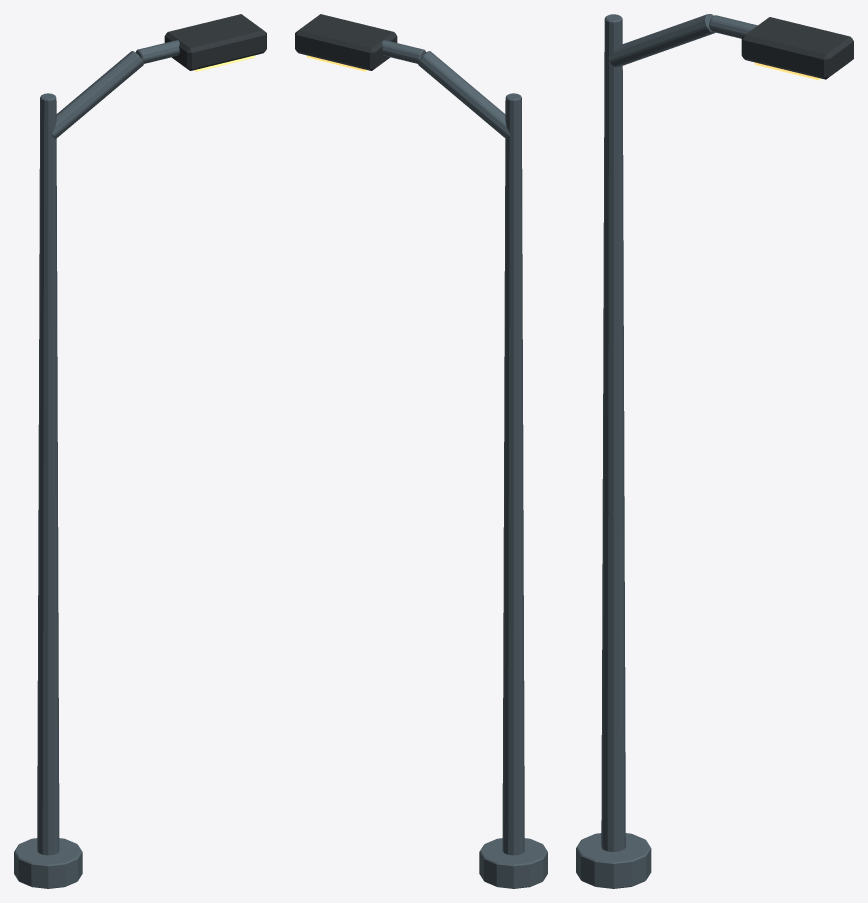
Rendered from environment_street_lamp_single_arm_model.glb.
3 renders of one model, left to right at view 1: azimuth 30°, elevation 25°; view 2: azimuth 150°, elevation 25°; view 3: azimuth 330°, elevation 25°, orthographic. The views are drawn at different scales.
Visible parts, largest first — view 1: BH_StreetLamp_01_RenderMesh; view 2: BH_StreetLamp_01_RenderMesh; view 3: BH_StreetLamp_01_RenderMesh.
Part boxes in pixels (box(x1,y1,x2,y2)): BH_StreetLamp_01_RenderMesh: box(14, 14, 266, 888); BH_StreetLamp_01_RenderMesh: box(295, 14, 547, 888); BH_StreetLamp_01_RenderMesh: box(576, 14, 853, 888).
Size of what is drawn, in the model's own units: 1.84 by 5.95 by 0.46.
